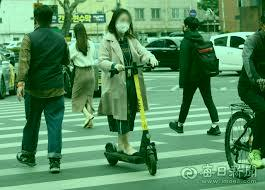nonhelmet: (92, 8, 167, 175)
